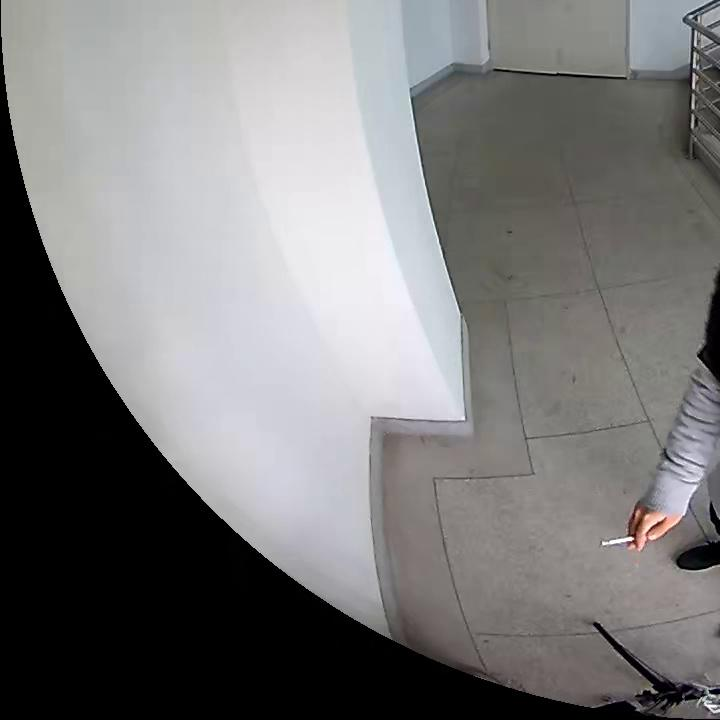handsmoke: (601, 505, 686, 552)
